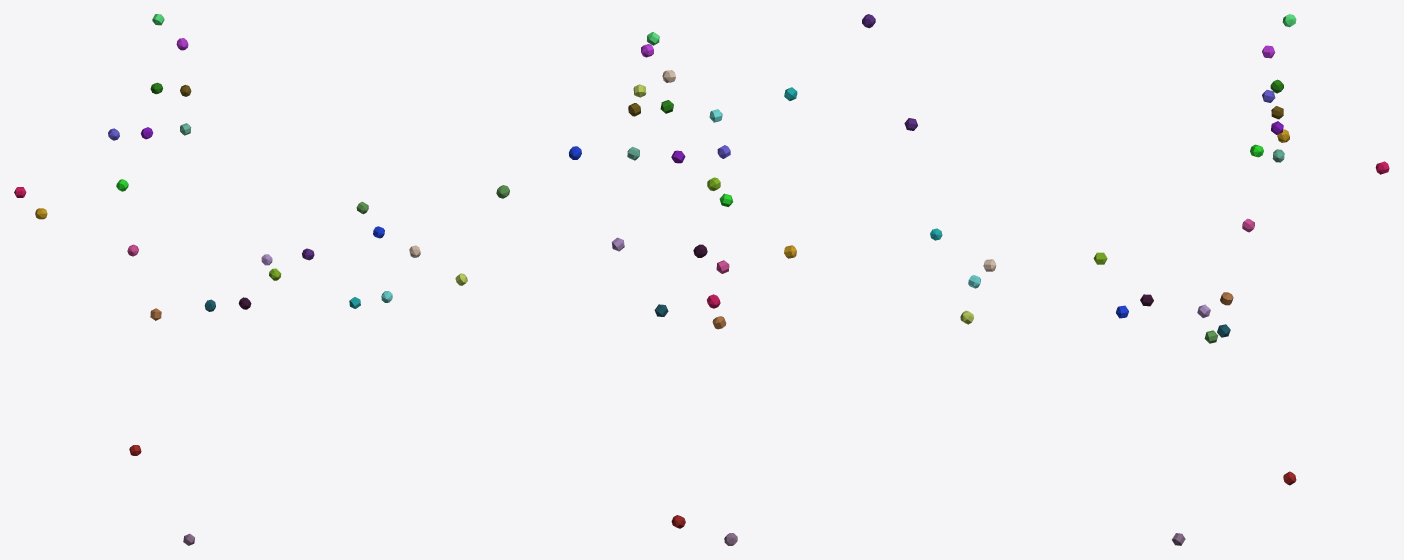
File: fg-00030-bone.obj
The picture shows the model from 3 angles, left to right: view 1: azimuth 30°, elevation 25°; view 2: azimuth 150°, elevation 25°; view 3: azimuth 270°, elevation 25°; orthographic projection. The views are drawn at different scales.
Size of the model in its own units: 0.2687 by 0.4208 by 0.3414.
